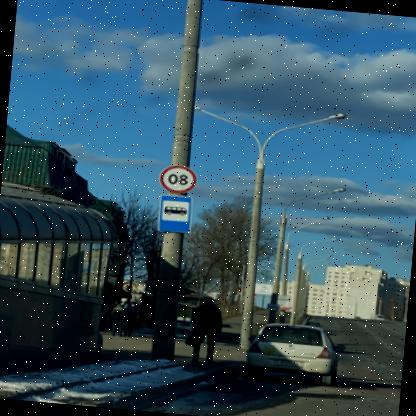speedlimit: (161, 162, 199, 192)
